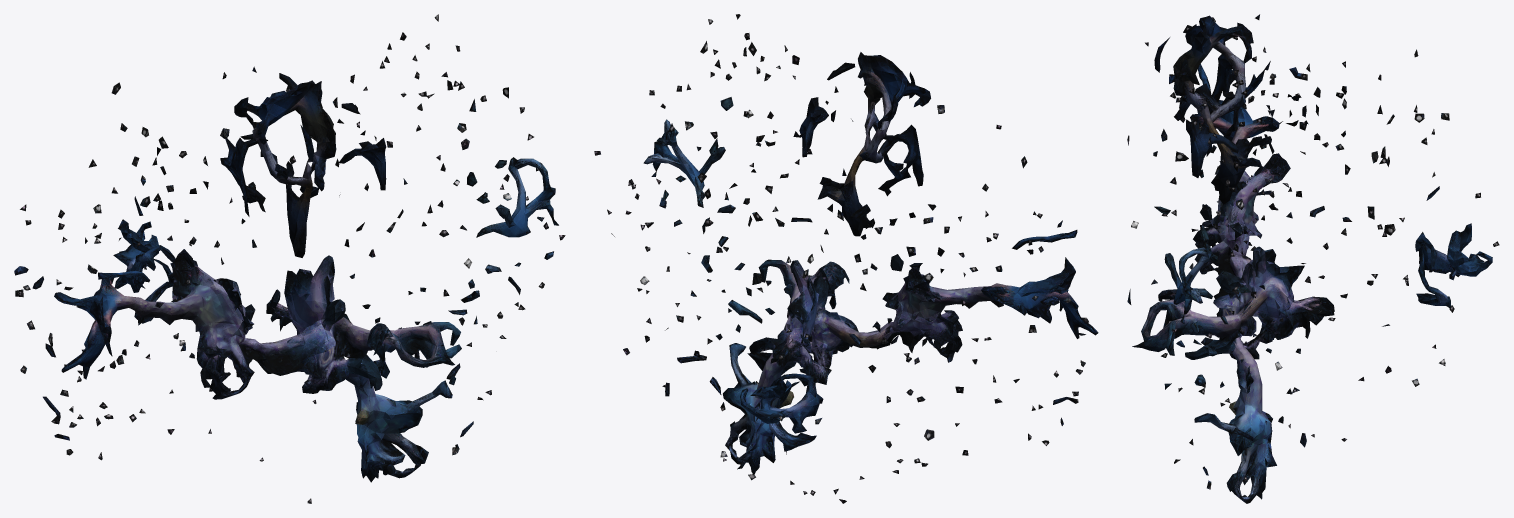
3 renders of one model, left to right at view 1: azimuth 30°, elevation 25°; view 2: azimuth 150°, elevation 25°; view 3: azimuth 270°, elevation 25°, orthographic. The views are drawn at different scales.
Visible parts, largest first — view 1: world; view 2: world; view 3: world.
Part boxes in pixels (x1,y1,x2,y2): world: (14, 14, 565, 503); world: (594, 14, 1098, 503); world: (1127, 14, 1499, 503).
Size of the model in its own units: 0.9646 by 0.8591 by 0.6488.
Materials: 1 (1 with a texture image).
